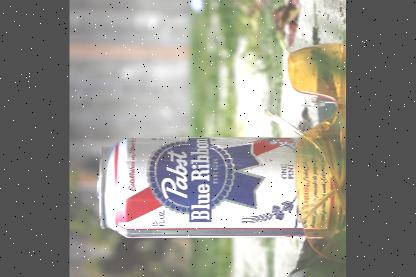Can: (94, 121, 344, 240)
